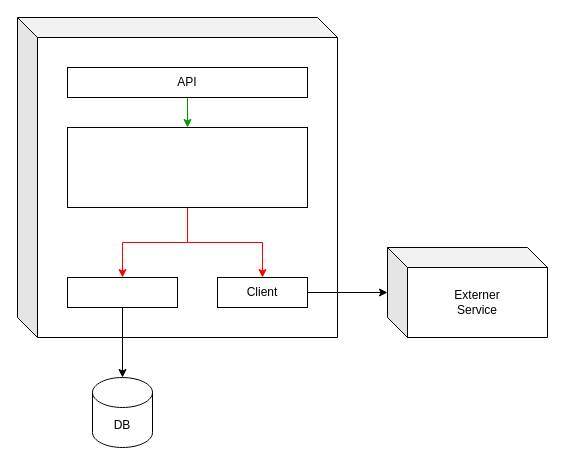
The diagram is 565 pixels wide and 465 high, and some of its shapes have lost their labels. Each missing label, with the box of its shape:
Business: (66, 126, 308, 208)
Persistenz: (66, 276, 178, 308)
